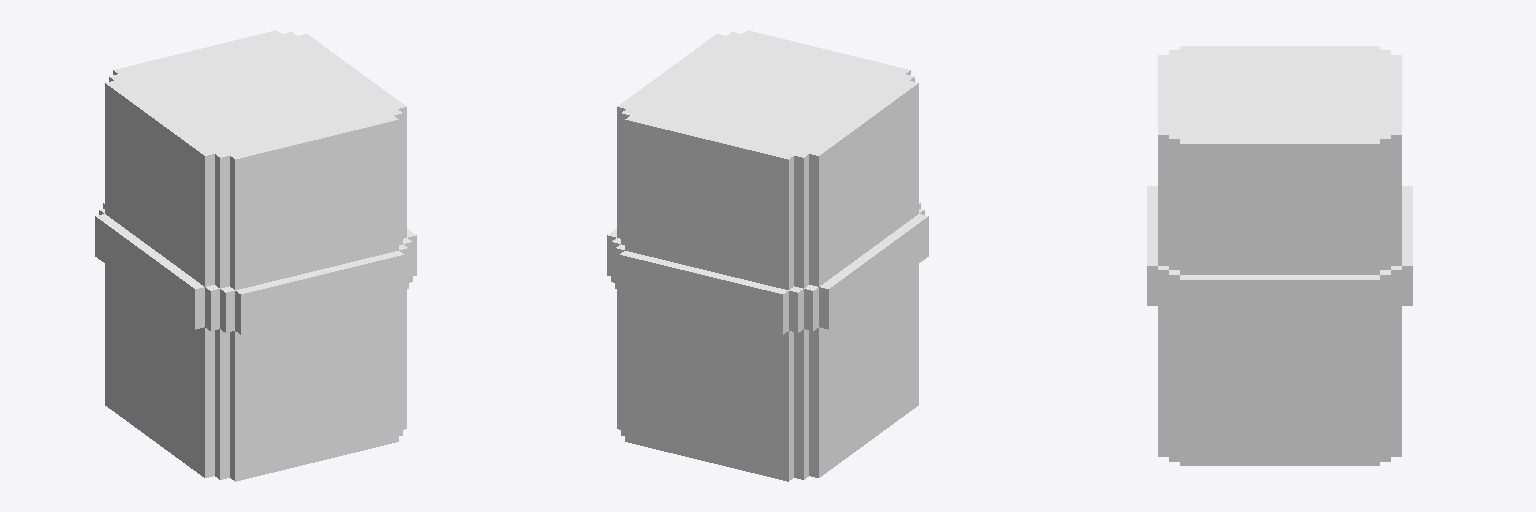
File: paper.obj
The picture shows the model from 3 angles: view 1: azimuth 30°, elevation 25°; view 2: azimuth 150°, elevation 25°; view 3: azimuth 270°, elevation 25°; orthographic projection.
Parts seen in each view (by area): view 1: object 1; view 2: object 1; view 3: object 1.
Boxes of the visible parts, x1=… form: object 1: x1=95, y1=30, x2=416, y2=481; object 1: x1=607, y1=30, x2=928, y2=481; object 1: x1=1147, y1=46, x2=1412, y2=465.
Size of the model in its own units: 2.3 by 3.2 by 2.4.